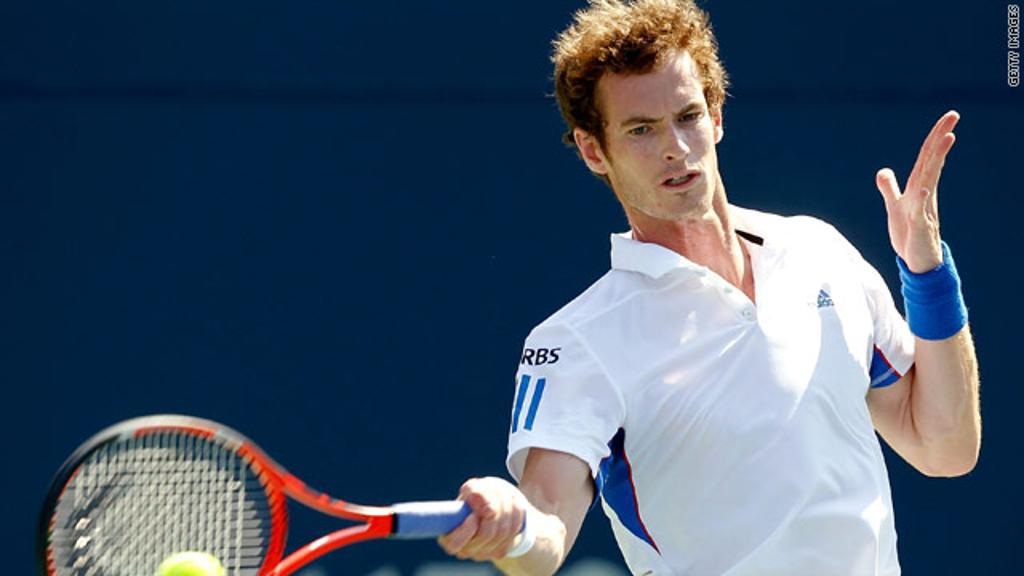face: (605, 57, 717, 221)
